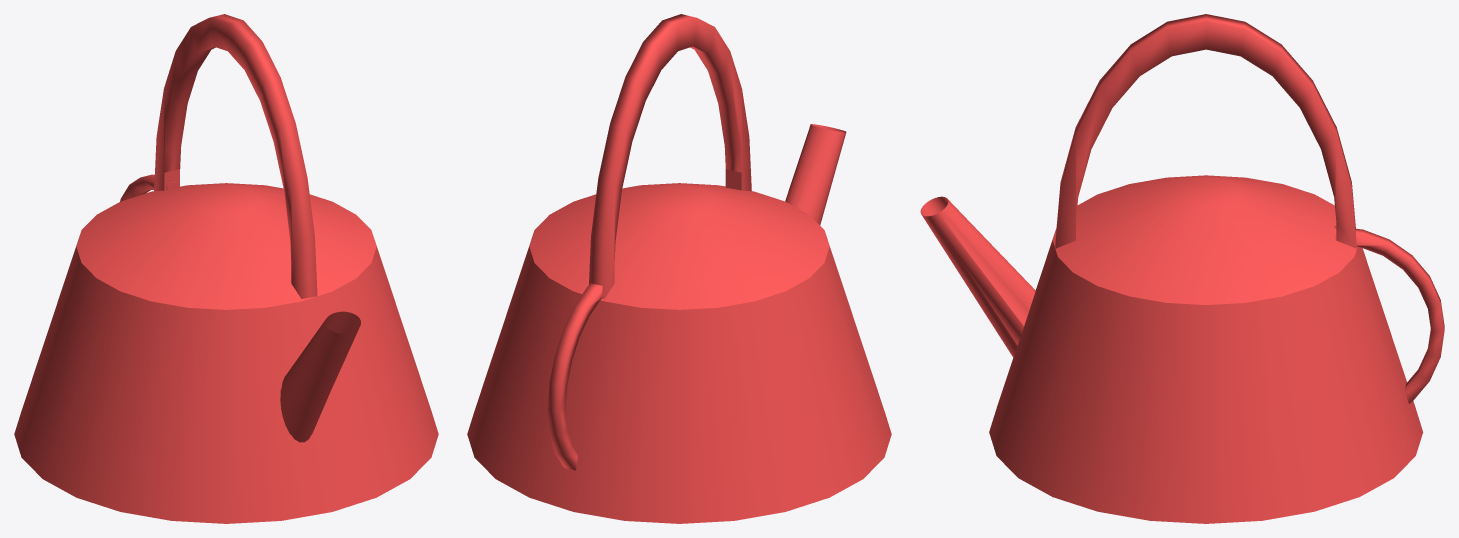
Rendered from teaKettle_1.dae.
3 renders of one model, left to right at view 1: azimuth 30°, elevation 25°; view 2: azimuth 150°, elevation 25°; view 3: azimuth 270°, elevation 25°, orthographic. The views are drawn at different scales.
Parts seen in each view (by area): view 1: SketchUp (×3), Component_19 (×2); view 2: SketchUp (×3), Component_19 (×2); view 3: SketchUp (×3), Component_19 (×2).
Boxes of the visible parts, x1,y1,x2,y2 form: SketchUp (×3): [14, 183, 438, 523]; Component_19 (×2): [120, 14, 317, 298]; SketchUp (×3): [467, 124, 891, 523]; Component_19 (×2): [547, 14, 751, 470]; SketchUp (×3): [920, 175, 1423, 523]; Component_19 (×2): [1055, 14, 1444, 403].
Size of the model in its own units: 9.68 by 11.69 by 10.31.
